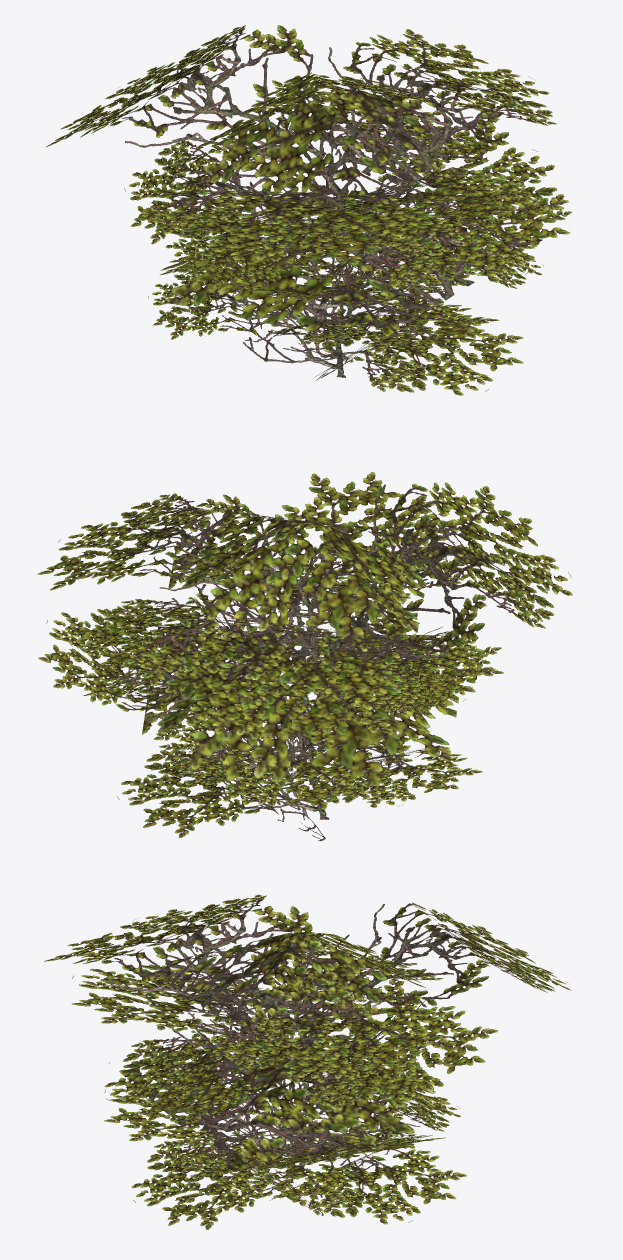
File: flora_tree_bush_temperate_v3.glb
3 views of the same model, one above another, from view 1: azimuth 30°, elevation 25°; view 2: azimuth 150°, elevation 25°; view 3: azimuth 270°, elevation 25° (orthographic). The views are drawn at different scales.
Visible parts, largest first — view 1: flora_tree_bush_temperate_v3_part0; view 2: flora_tree_bush_temperate_v3_part0; view 3: flora_tree_bush_temperate_v3_part0.
Boxes of the visible parts, bbox=[...] form: flora_tree_bush_temperate_v3_part0: bbox=[46, 25, 571, 395]; flora_tree_bush_temperate_v3_part0: bbox=[37, 472, 572, 841]; flora_tree_bush_temperate_v3_part0: bbox=[44, 894, 571, 1229].
Bounding box in the file's own units: 13.13 × 6.98 × 14.19.
1 material, 1 textured.
